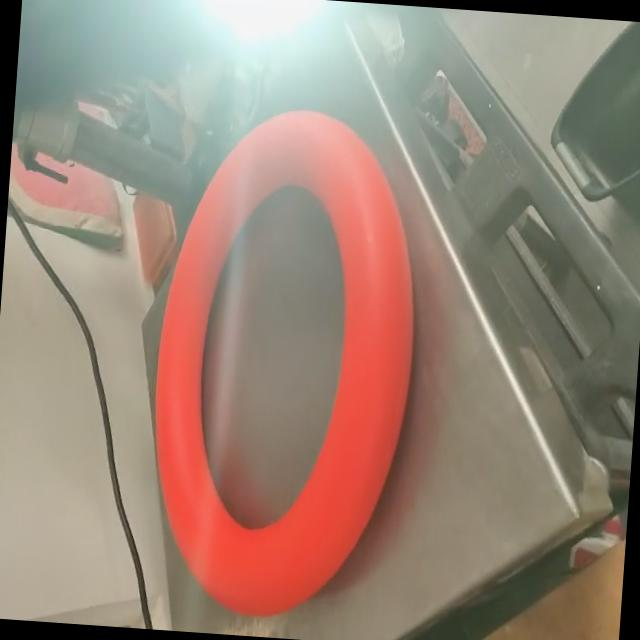note: (137, 96, 428, 629)
